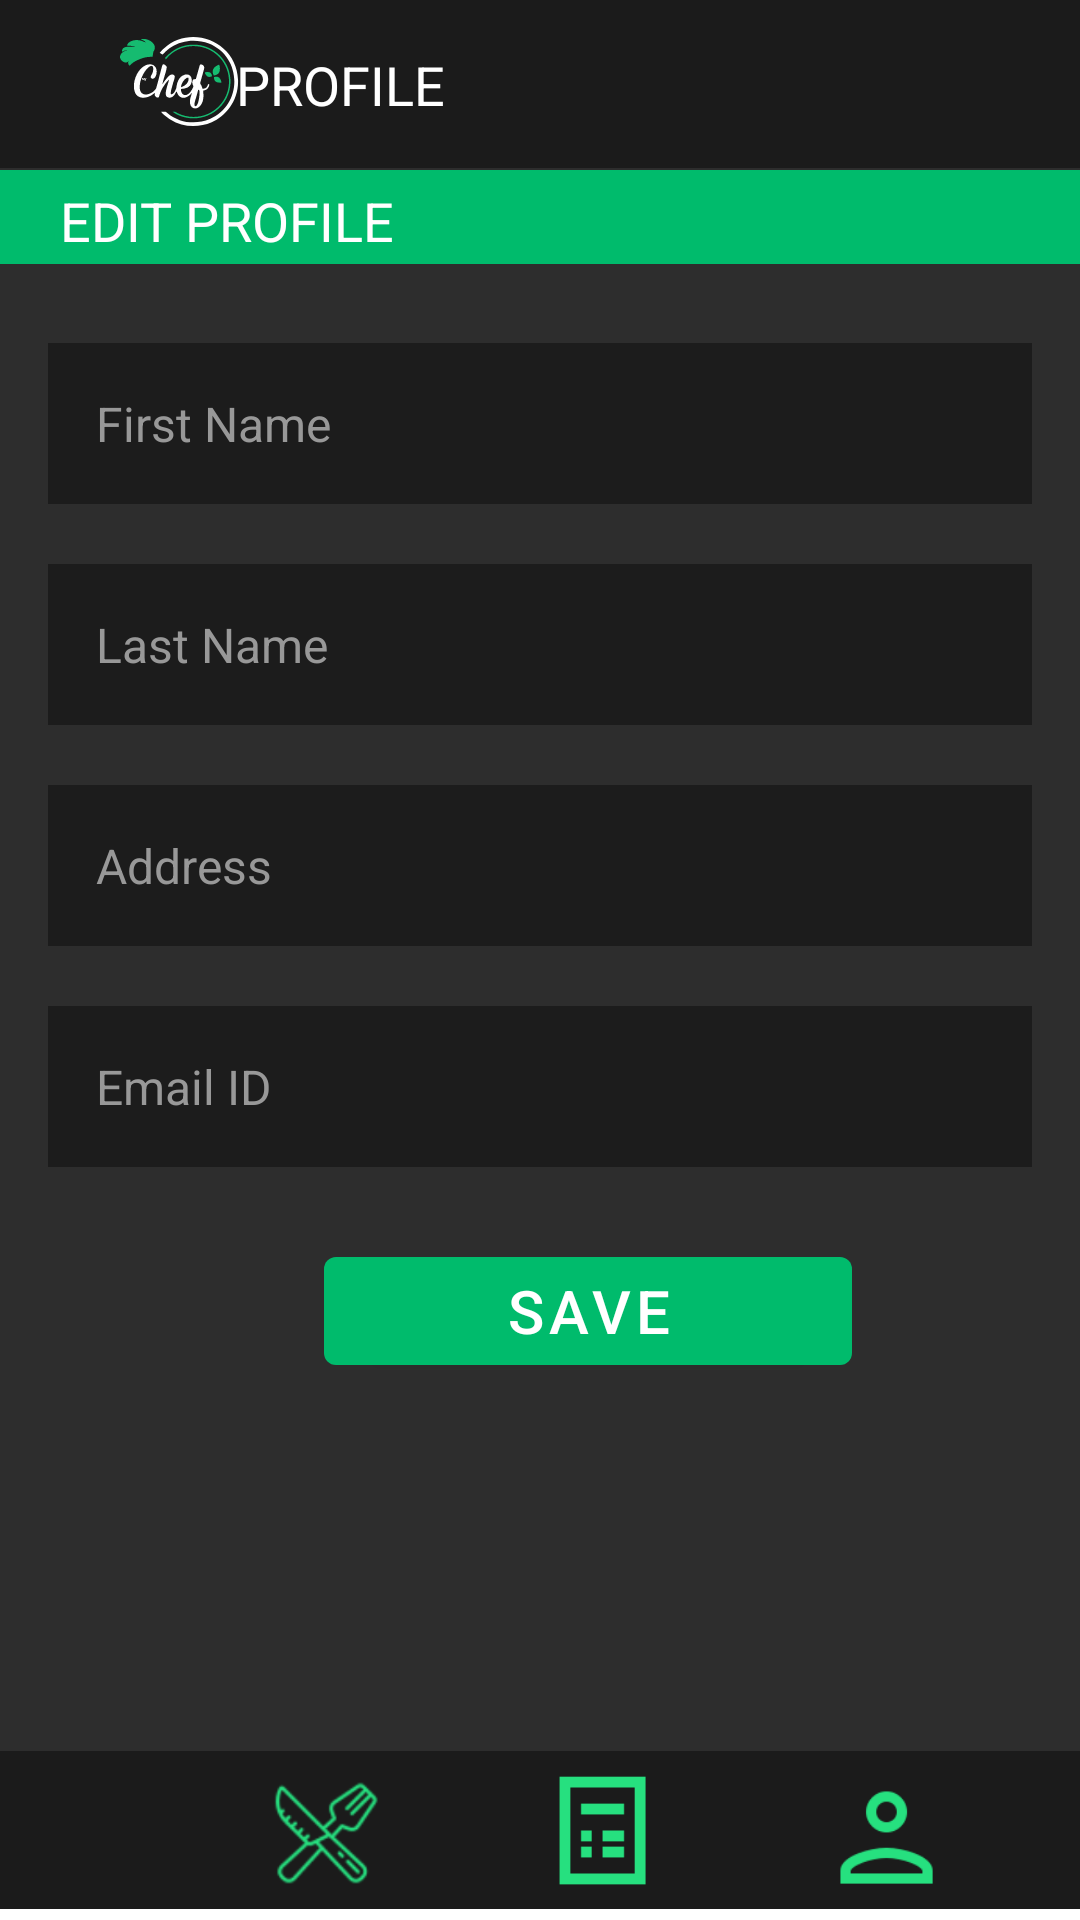

Where to tap for icons on this 1080x1920 app screen, as (x=x, y=y):
menuicon: (x=326, y=1833)
ordericon: (x=602, y=1830)
profileicon: (x=886, y=1837)
